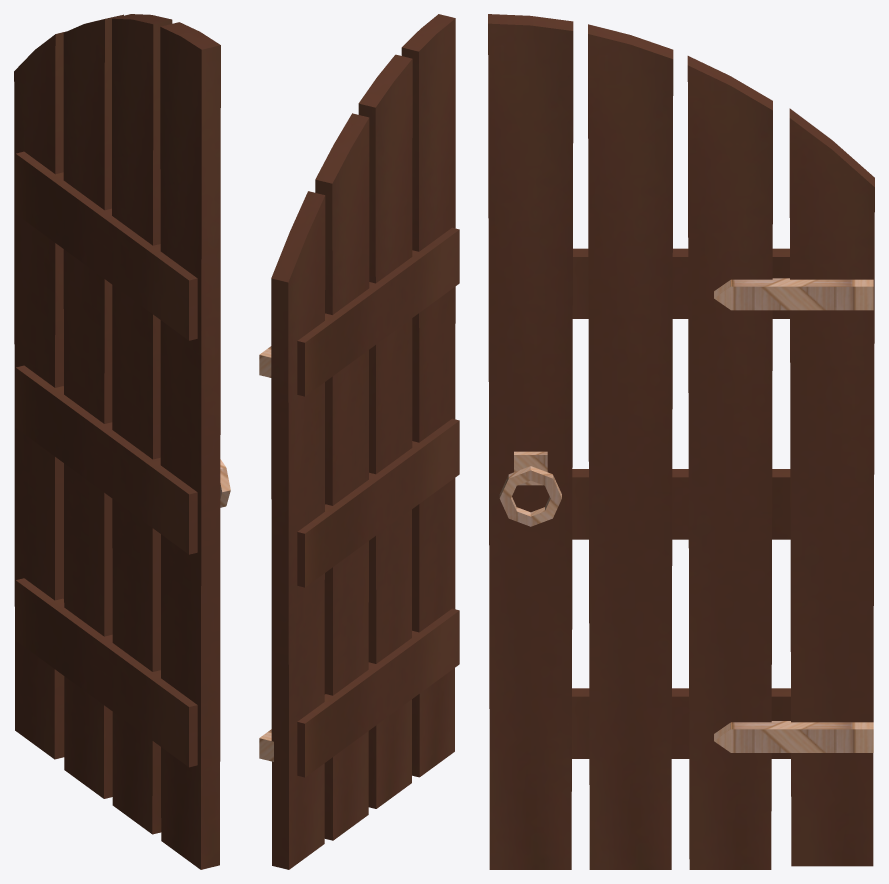
Rendered from gate.fbx.
3 renders of one model, left to right at view 1: azimuth 30°, elevation 25°; view 2: azimuth 150°, elevation 25°; view 3: azimuth 270°, elevation 25°, orthographic. The views are drawn at different scales.
Parts seen in each view (by area): view 1: Plane.005; view 2: Plane.005; view 3: Plane.005.
Part boxes in pixels (bbox=[...]): Plane.005: bbox=[14, 14, 230, 869]; Plane.005: bbox=[259, 14, 459, 869]; Plane.005: bbox=[488, 14, 874, 869].
Bounding box in the file's own units: 0.3163 × 5.73 × 2.37.
